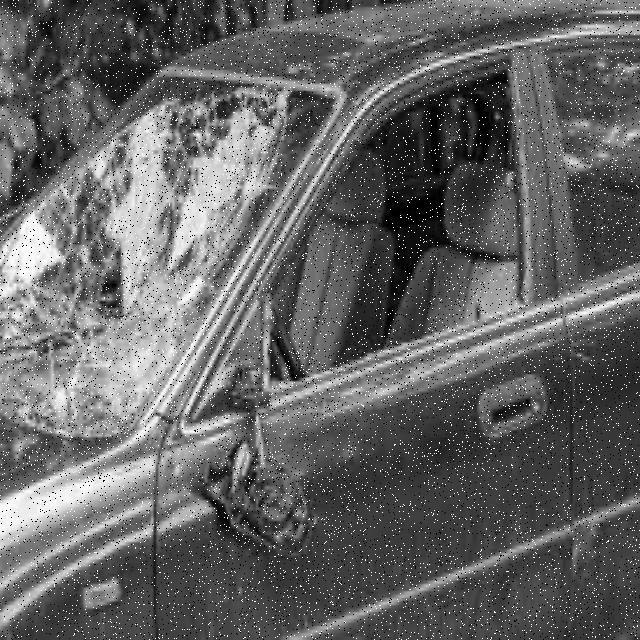Front-windscreen-damage: (0, 74, 342, 427)
Sidemirror-Damage: (200, 423, 316, 577)
